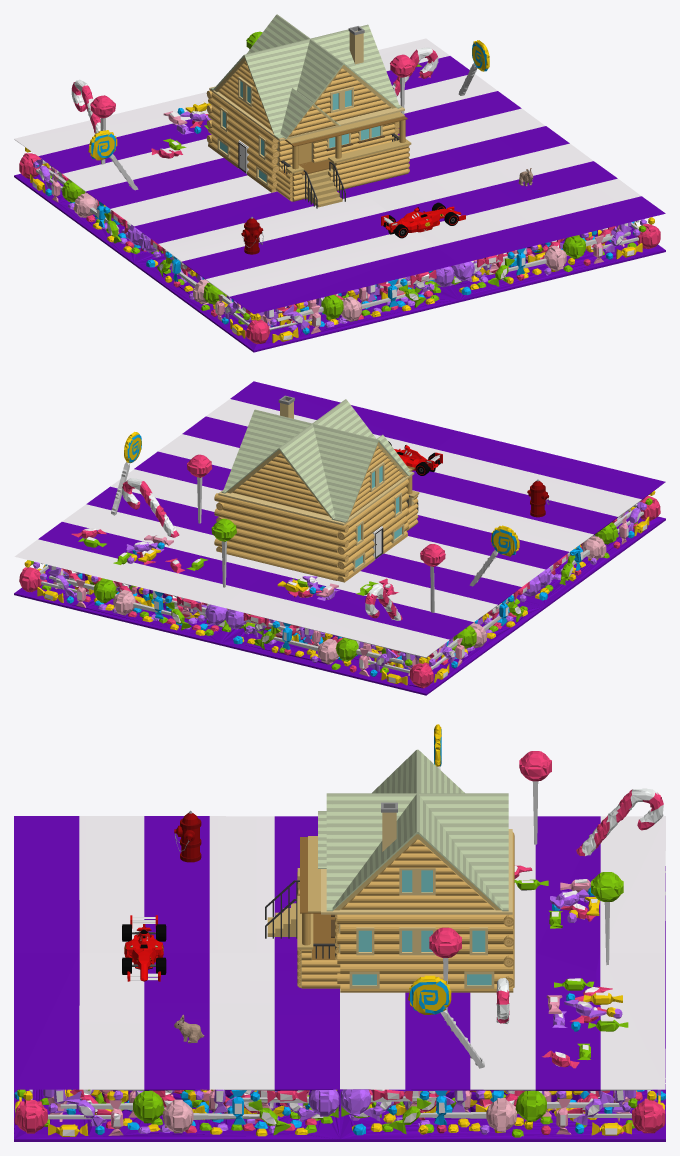
3 views of the same model, one above another, from view 1: azimuth 30°, elevation 25°; view 2: azimuth 150°, elevation 25°; view 3: azimuth 270°, elevation 25° (orthographic). The views are drawn at different scales.
Visible parts, largest first — view 1: TERRAIN_CANDY, Cube.1516, VEHICLES_FORMULA_1, OBJRANDOM_FIRE_HYDRANT; view 2: TERRAIN_CANDY, Cube.1516, VEHICLES_FORMULA_1, OBJRANDOM_FIRE_HYDRANT; view 3: TERRAIN_CANDY, Cube.1516, VEHICLES_FORMULA_1, OBJRANDOM_FIRE_HYDRANT.
Part boxes in pixels (<box>): TERRAIN_CANDY: <box>14,31,665,352</box>; Cube.1516: <box>206,14,411,208</box>; VEHICLES_FORMULA_1: <box>381,202,465,238</box>; OBJRANDOM_FIRE_HYDRANT: <box>241,217,263,254</box>; TERRAIN_CANDY: <box>14,381,665,695</box>; Cube.1516: <box>214,395,419,582</box>; VEHICLES_FORMULA_1: <box>388,441,442,475</box>; OBJRANDOM_FIRE_HYDRANT: <box>527,479,549,517</box>; TERRAIN_CANDY: <box>14,724,665,1141</box>; Cube.1516: <box>265,749,514,992</box>; VEHICLES_FORMULA_1: <box>122,915,166,981</box>; OBJRANDOM_FIRE_HYDRANT: <box>174,810,201,862</box>.
Bounding box in the file's own units: 4059 × 1685 × 4000.
Materials: 33 (3 with a texture image).
